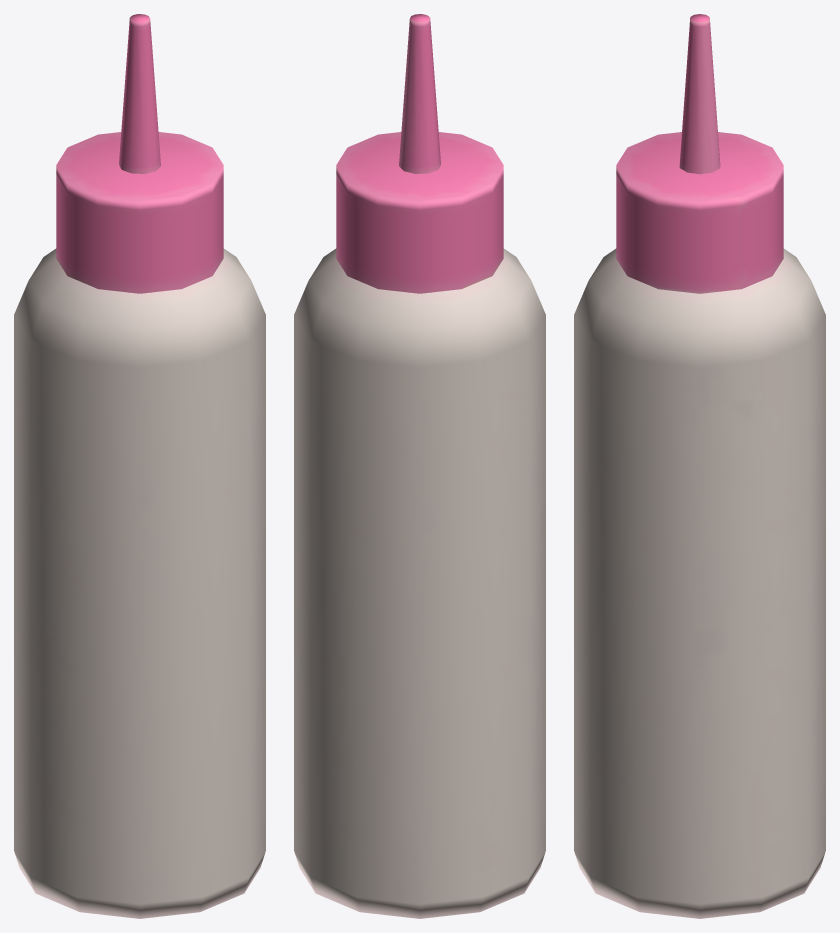
Rendered from pi_bottle01_white.gltf.
3 views of the same model, side by side, from view 1: azimuth 30°, elevation 25°; view 2: azimuth 150°, elevation 25°; view 3: azimuth 270°, elevation 25° (orthographic).
Visible parts, largest first — view 1: pi_bottle01_white_mesh_shape:pi_bottle01_main; view 2: pi_bottle01_white_mesh_shape:pi_bottle01_main; view 3: pi_bottle01_white_mesh_shape:pi_bottle01_main.
Boxes of the visible parts, x1=… form: pi_bottle01_white_mesh_shape:pi_bottle01_main: x1=14, y1=14, x2=265, y2=918; pi_bottle01_white_mesh_shape:pi_bottle01_main: x1=294, y1=14, x2=545, y2=918; pi_bottle01_white_mesh_shape:pi_bottle01_main: x1=574, y1=14, x2=825, y2=918.
Bounding box in the file's own units: 0.06 × 0.2234 × 0.06.
Materials: 1 (1 with a texture image).
